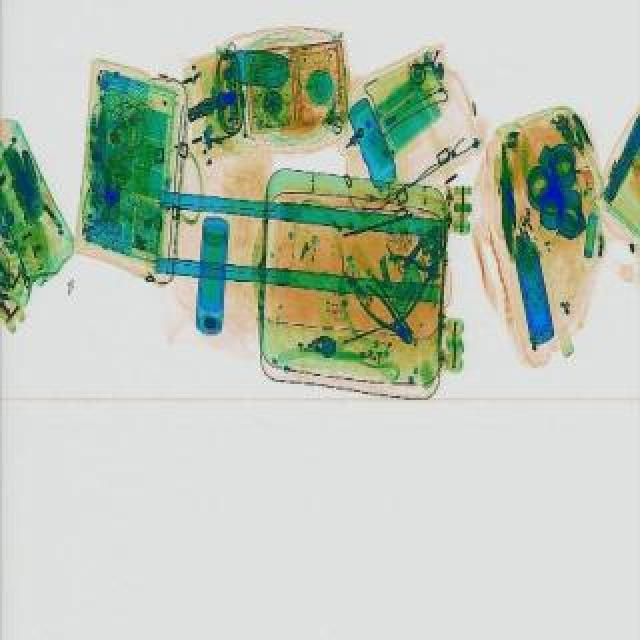wrench: (368, 242, 456, 322), (350, 284, 420, 352)
